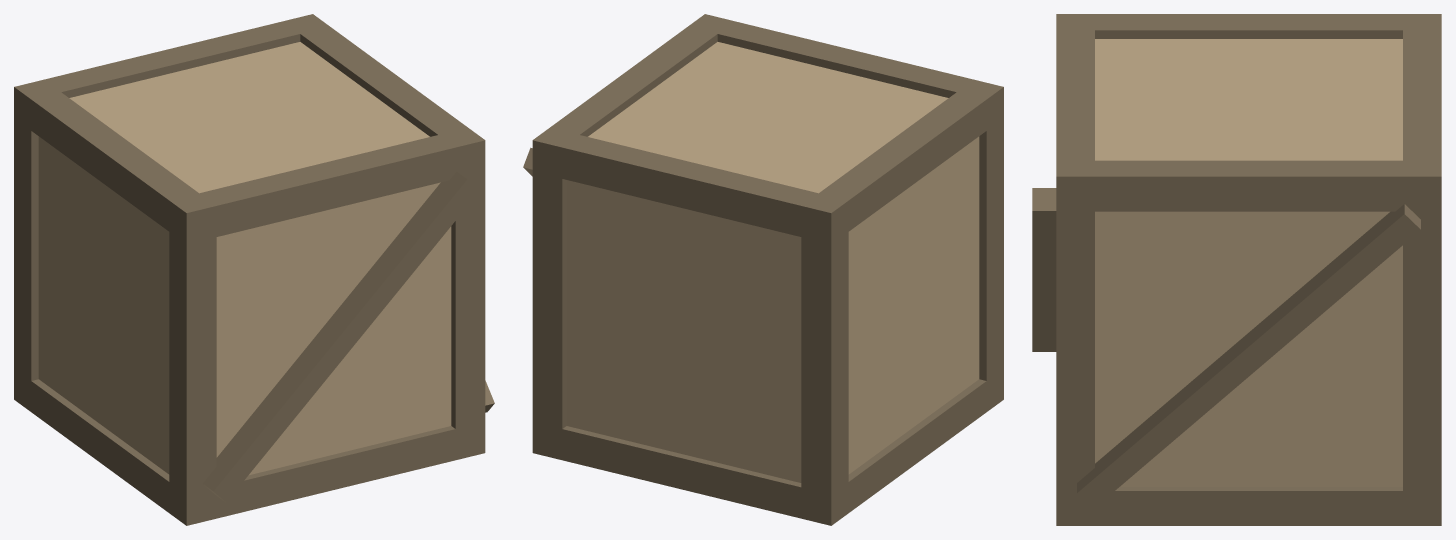
Rendered from crate.glb.
The picture shows the model from 3 angles, left to right: view 1: azimuth 30°, elevation 25°; view 2: azimuth 150°, elevation 25°; view 3: azimuth 270°, elevation 25°; orthographic projection. The views are drawn at different scales.
Visible parts, largest first — view 1: driftwood_d5, driftwood_d35; view 2: driftwood_d5, driftwood_d35; view 3: driftwood_d5, driftwood_d35.
Boxes of the visible parts, bbox=[...] form: driftwood_d5: bbox=[38, 42, 451, 475]; driftwood_d35: bbox=[14, 14, 494, 525]; driftwood_d5: bbox=[566, 42, 979, 482]; driftwood_d35: bbox=[523, 14, 1003, 525]; driftwood_d5: bbox=[1095, 39, 1402, 486]; driftwood_d35: bbox=[1032, 14, 1441, 525].
Bounding box in the file's own units: 0.85 × 0.8 × 0.85.
